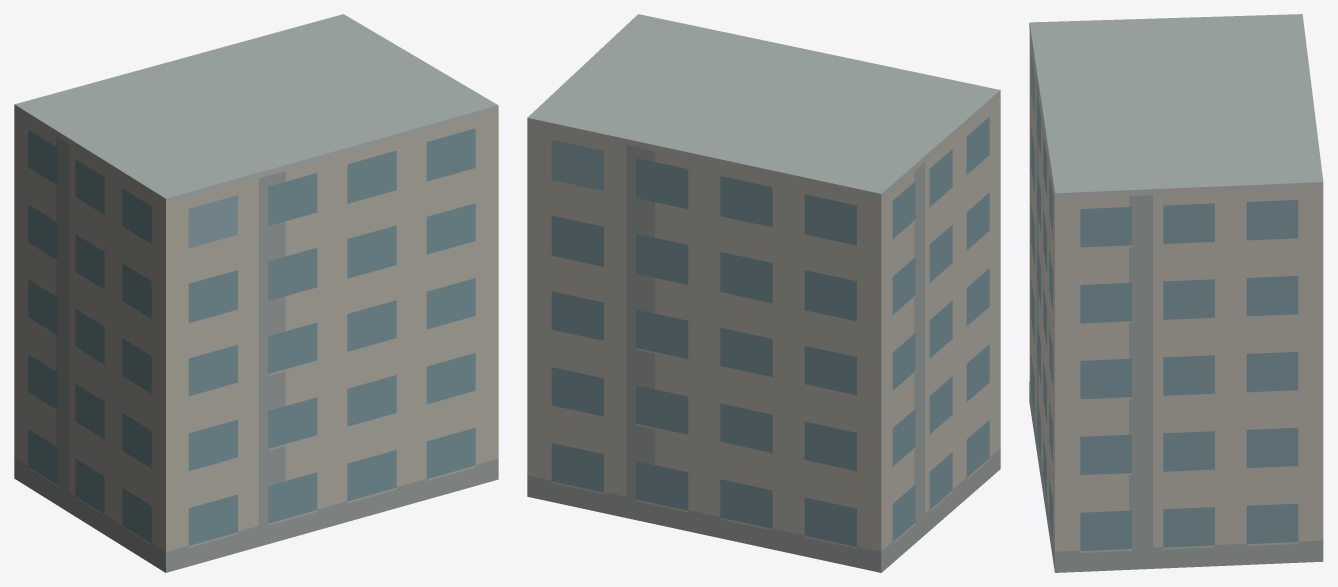
The model's file is survey-upis-32945732.glb.
3 views of the same model, side by side, from view 1: azimuth 30°, elevation 25°; view 2: azimuth 150°, elevation 25°; view 3: azimuth 270°, elevation 25° (orthographic).
Visible parts, largest first — view 1: survey-upis-32945732.tmp; view 2: survey-upis-32945732.tmp; view 3: survey-upis-32945732.tmp.
Boxes of the visible parts, bbox=[...] form: survey-upis-32945732.tmp: bbox=[14, 14, 498, 572]; survey-upis-32945732.tmp: bbox=[527, 14, 1000, 572]; survey-upis-32945732.tmp: bbox=[1029, 14, 1323, 572].
Size of the model in its own units: 15.71 by 15.5 by 10.89.
